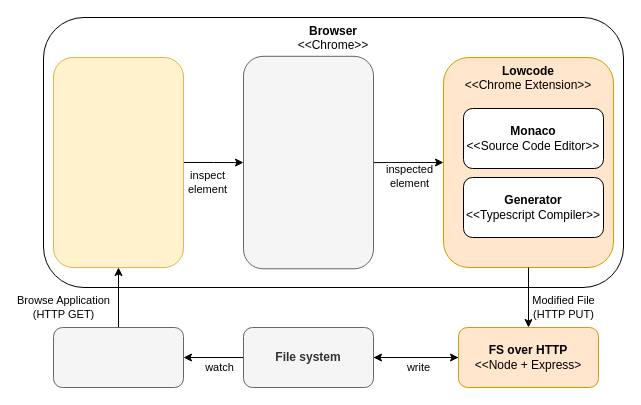
The diagram is 641 pixels wide and 405 high, and some of its shapes have lost their labels. Each missing label, with the centre of its shape:
"Dev Server <<WebPack + Babel>>" goes at pixel 118 357.
"React Dev Tools <<Chrome Extension>>" goes at pixel 308 162.
"WEB Application <<React>>" goes at pixel 118 162.
